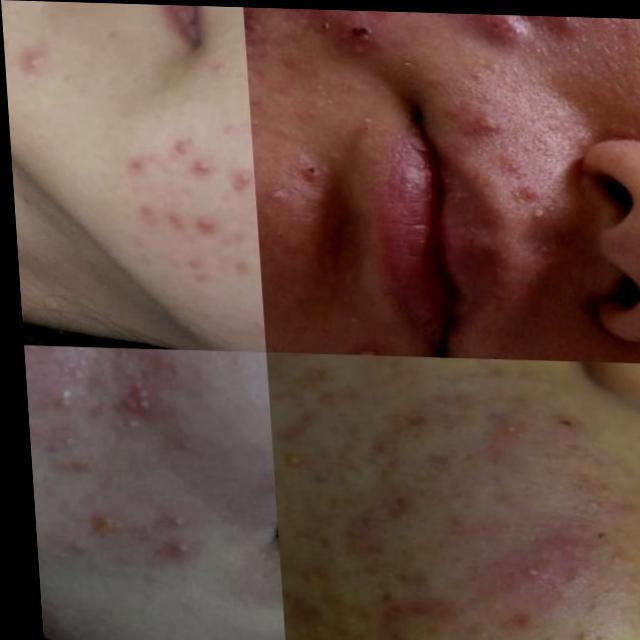8: (122, 187, 181, 246), (5, 39, 59, 85), (535, 521, 583, 555), (179, 205, 228, 235), (115, 150, 153, 180), (175, 253, 210, 284), (496, 173, 537, 198), (503, 556, 540, 579), (259, 181, 295, 204), (254, 217, 269, 251)
9: (223, 155, 252, 192), (185, 153, 218, 181), (165, 138, 193, 164), (150, 509, 183, 530), (156, 536, 189, 554), (337, 342, 376, 354)
blackheads: (276, 6, 390, 57), (110, 353, 150, 434), (353, 592, 437, 627), (331, 501, 376, 562), (444, 10, 510, 37), (76, 506, 122, 543), (40, 376, 74, 416), (520, 12, 590, 29)
whiteheads: (466, 99, 504, 136), (513, 197, 552, 222)
